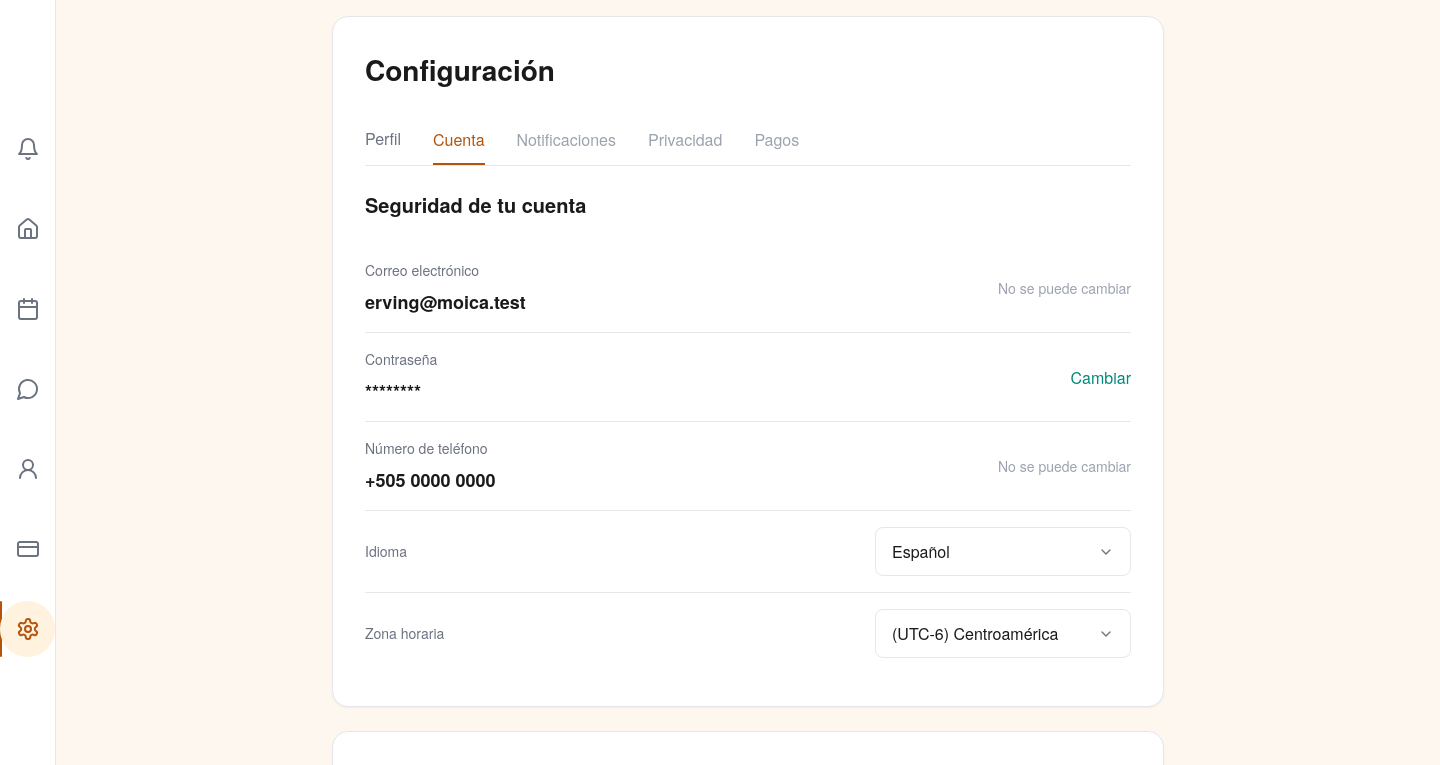
Test: seguridad de la cuenta › cambio de contraseña › muestra el mensaje del backend cuando la contraseña actual no es correcta
Check: the heading "Seguridad de tu cuenta" is shown, box [365,190,586,219]
Click the button "Cambiar". click: (1101, 377)
box: [1070,366,1131,388]
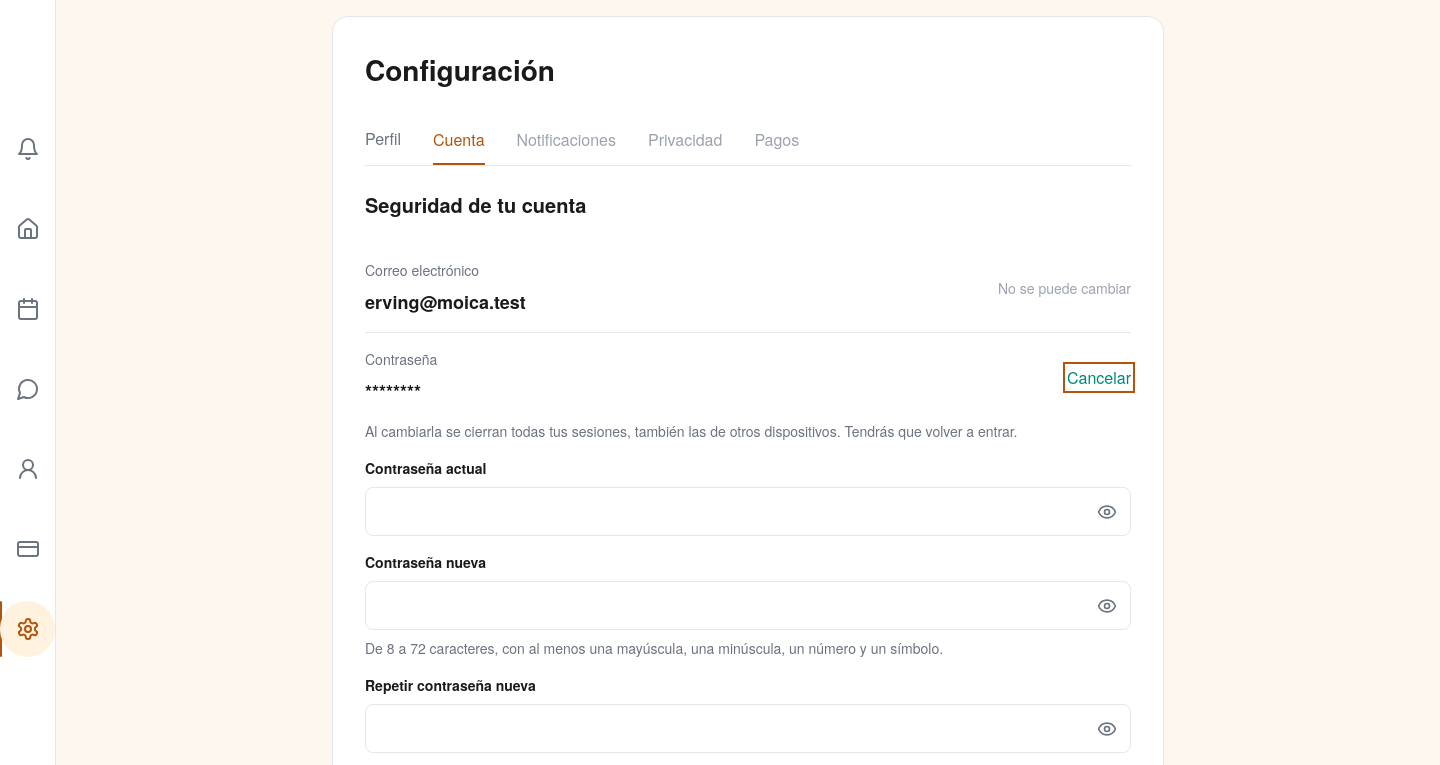
Type "Moica2026$segura" into the password field labelled "Contraseña actual". click: (748, 512)
box: [365,487,1131,536]
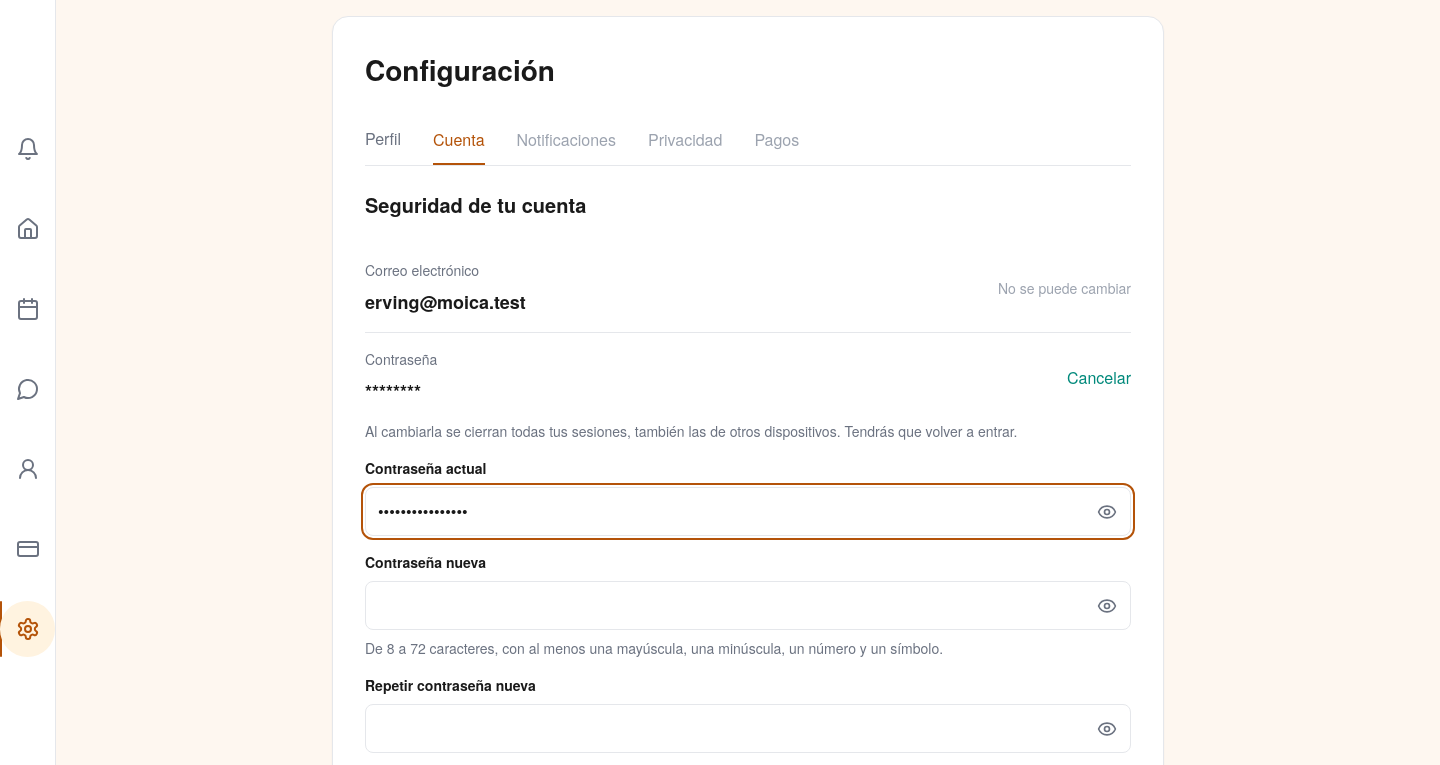
Type "Moica2026$nueva" into the password field labelled "Contraseña nueva". click: (748, 606)
box: [365,581,1131,630]
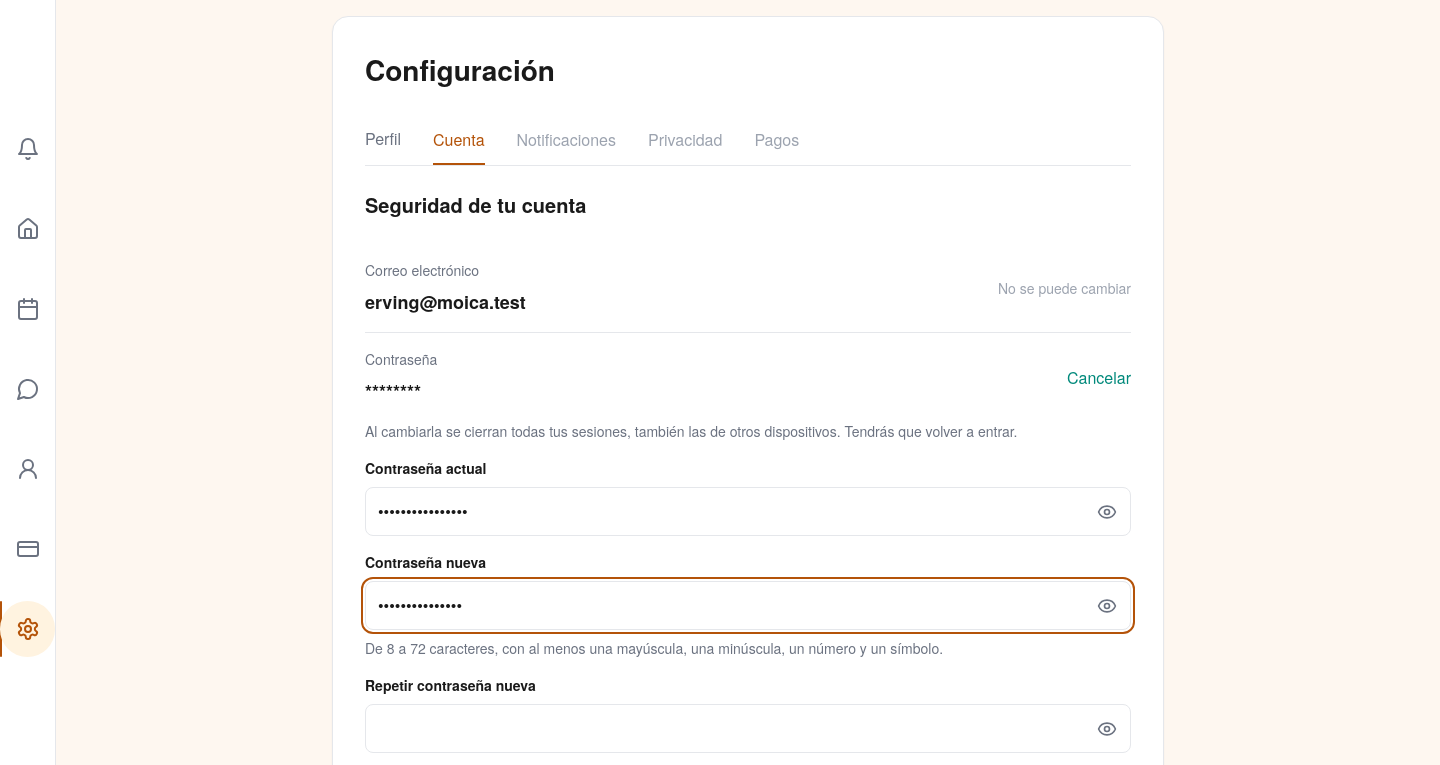
Type "Moica2026$nueva" into the password field labelled "Repetir contraseña nueva". click: (748, 728)
box: [365,704,1131,753]
(page scrolled)
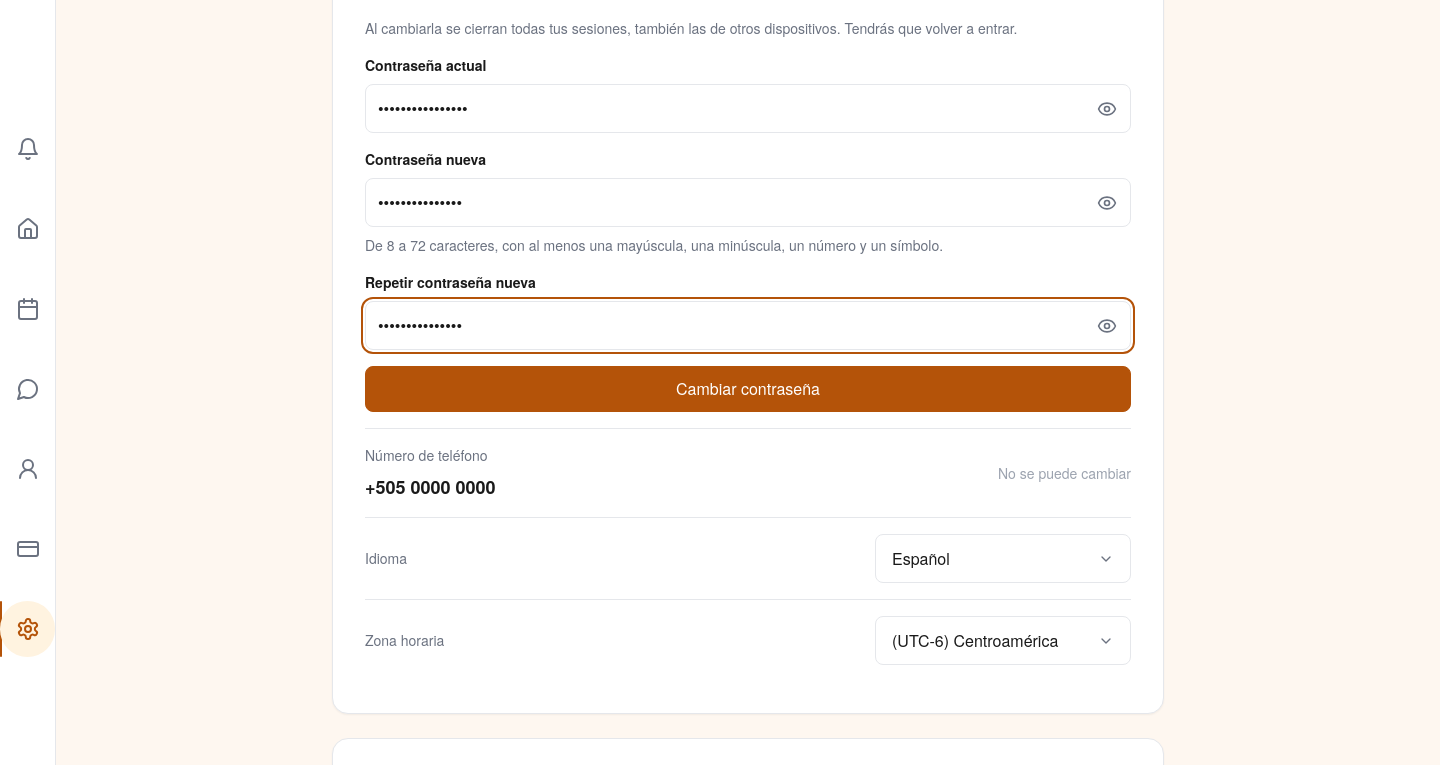
Click the button "Cambiar contraseña". click: (748, 389)
box: [365,366,1131,412]
(page scrolled)
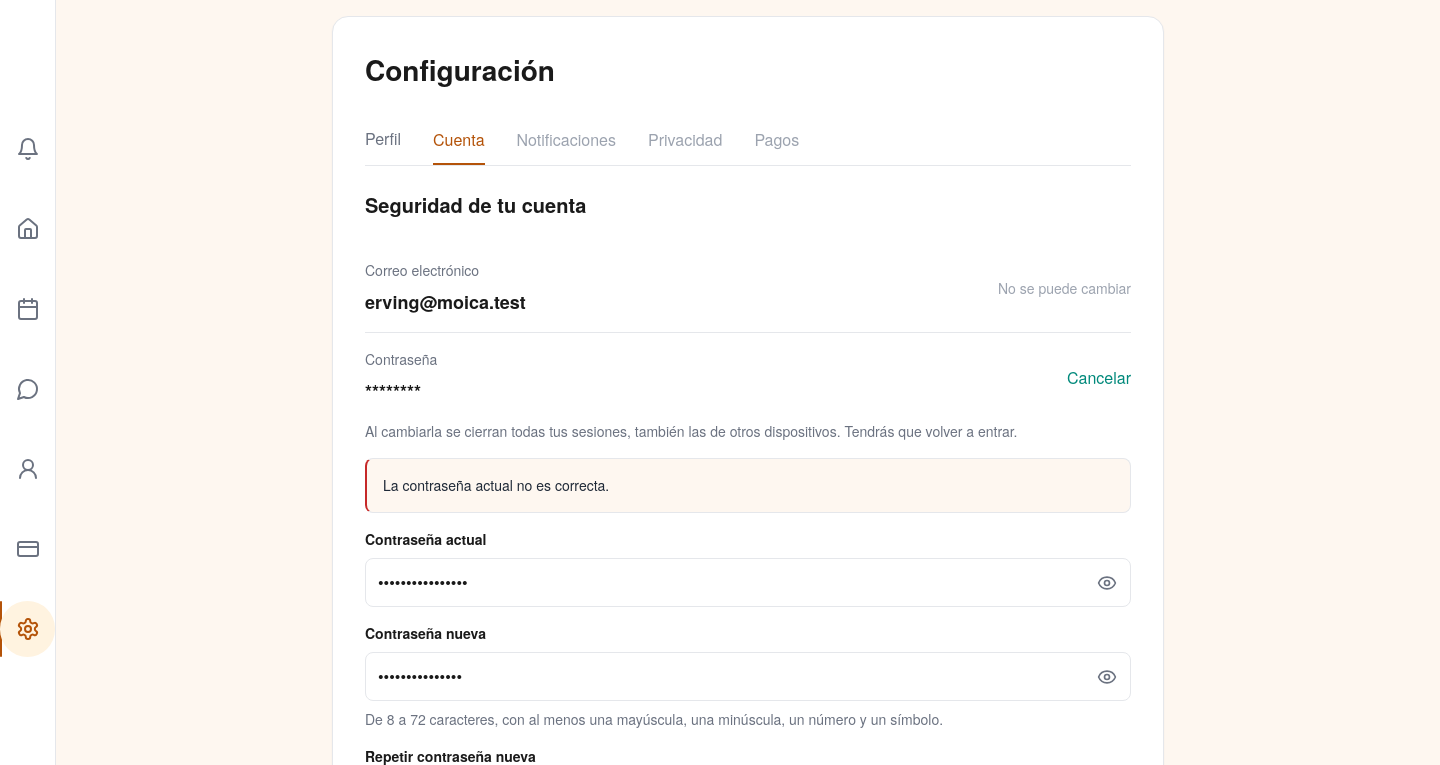
Check: the heading "Seguridad de tu cuenta" is shown, box [365,190,586,219]
Check: the message reads "La contraseña actual no es correcta.", box [383,475,609,495]
